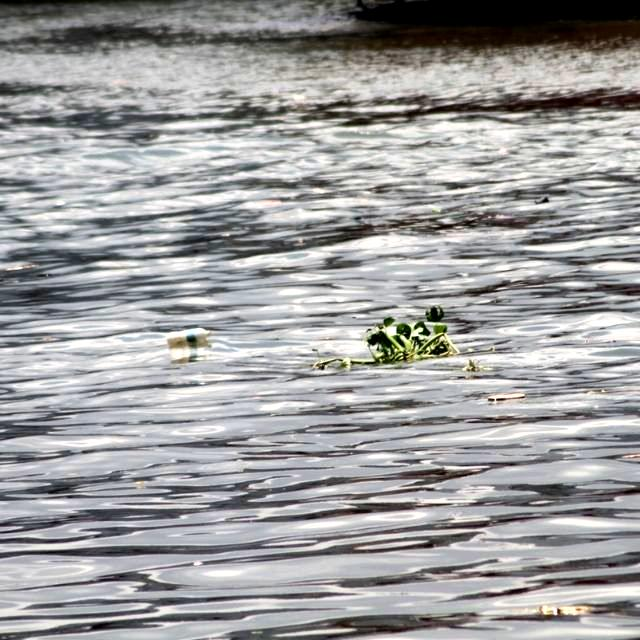plastic bottle: (165, 323, 211, 346)
water-hyacinth: (325, 303, 466, 370)
